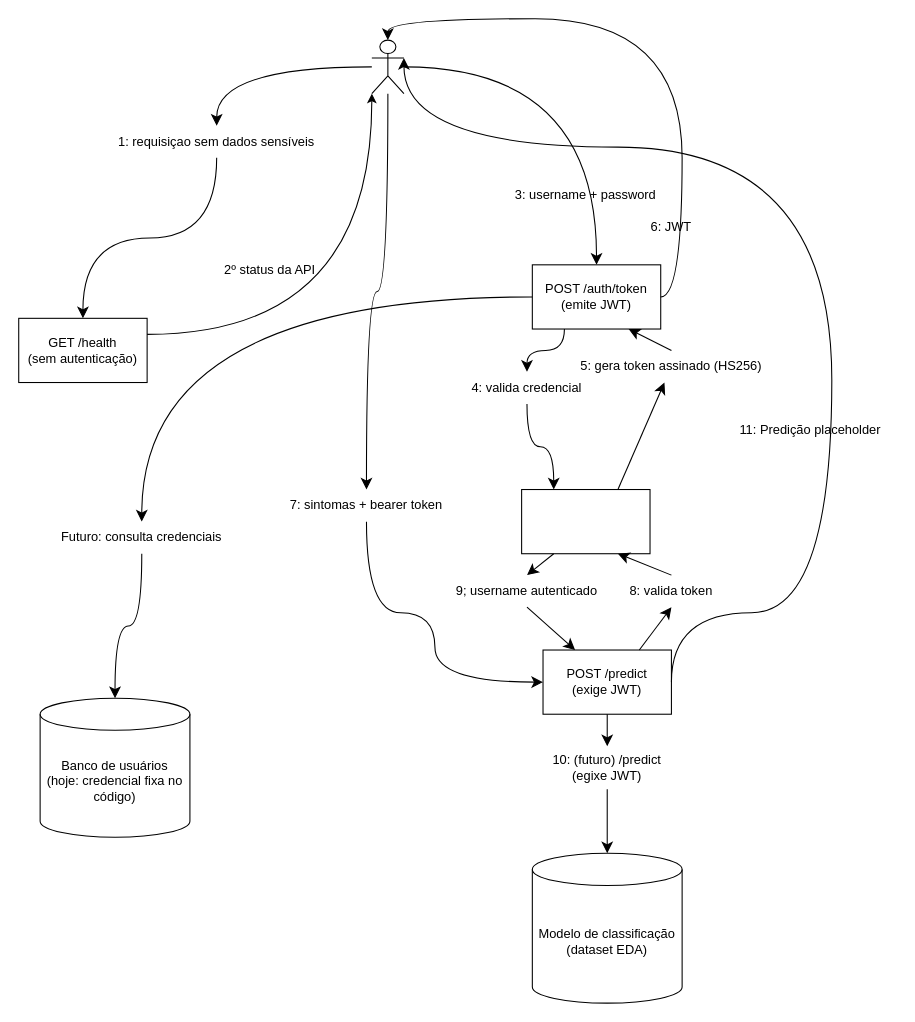
This 915x1022 diagram has some shape labels left out. The shapes that lost their labels are listed below. From the top down, each one's centre as x and y in pixels, then its label:
the point at 387,66: Usuário \ paciente
the point at 585,521: JWT Handler (criar/valida token)
